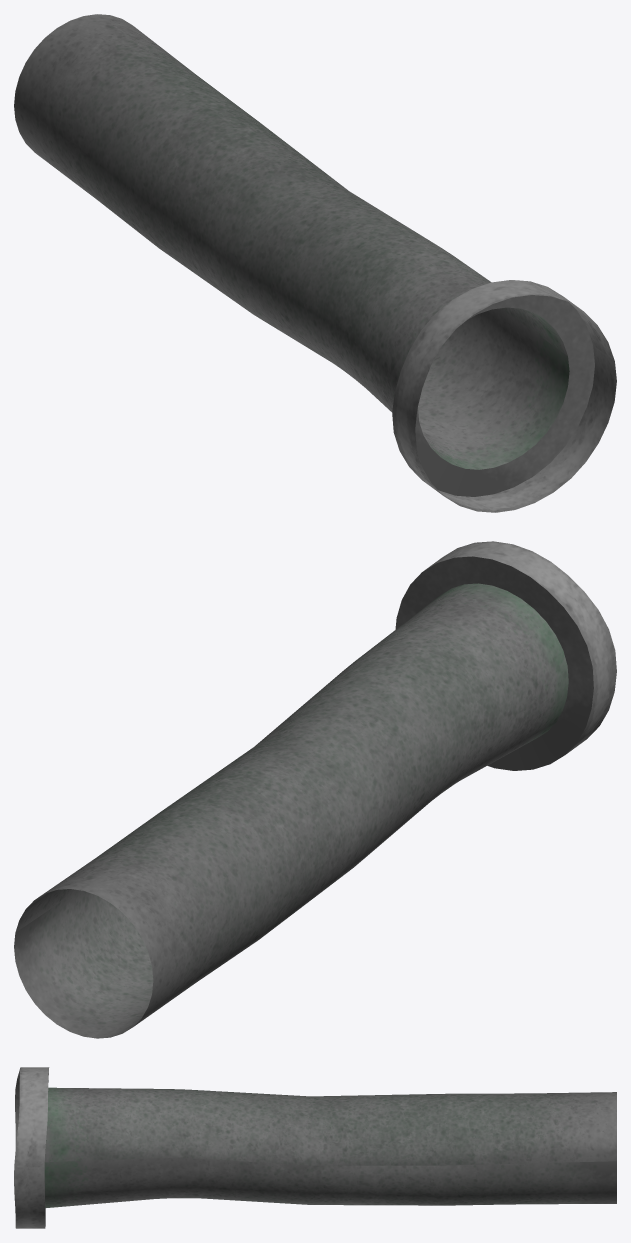
Rendered from SM_Tuberia2.fbx.
3 renders of one model, top to bottom at view 1: azimuth 30°, elevation 25°; view 2: azimuth 150°, elevation 25°; view 3: azimuth 270°, elevation 25°, orthographic. The views are drawn at different scales.
Visible parts, largest first — view 1: SM_Tuberia2; view 2: SM_Tuberia2; view 3: SM_Tuberia2.
Boxes of the visible parts, <box> form: SM_Tuberia2: <box>14,14,616,512</box>; SM_Tuberia2: <box>14,541,616,1038</box>; SM_Tuberia2: <box>14,1067,616,1228</box>.
Size of the model in its own units: 268 by 268 by 1000.
